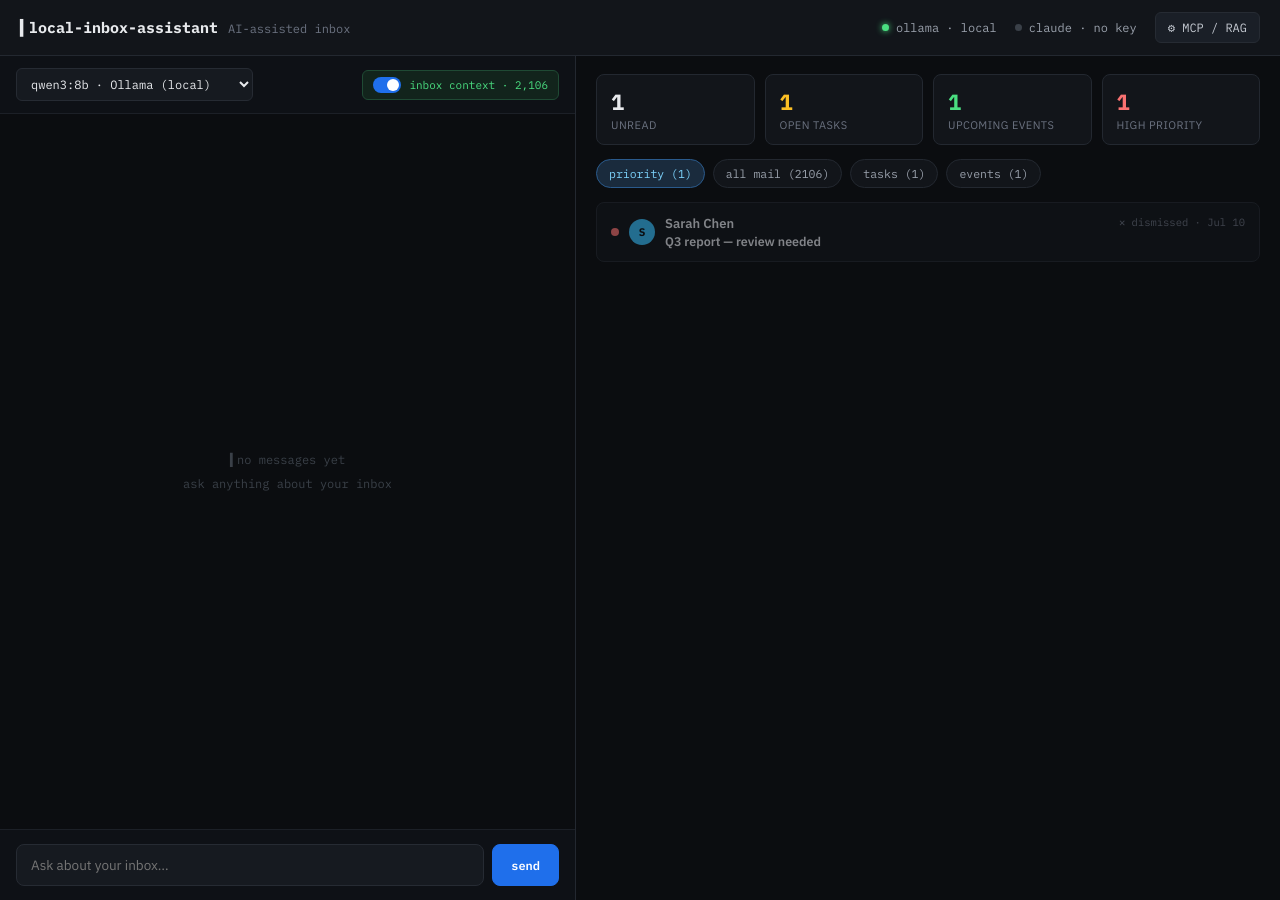
App › marks dismissed emails and offers restore
Click the text "Sarah Chen": (700, 224) x1=665 y1=215 x2=734 y2=232
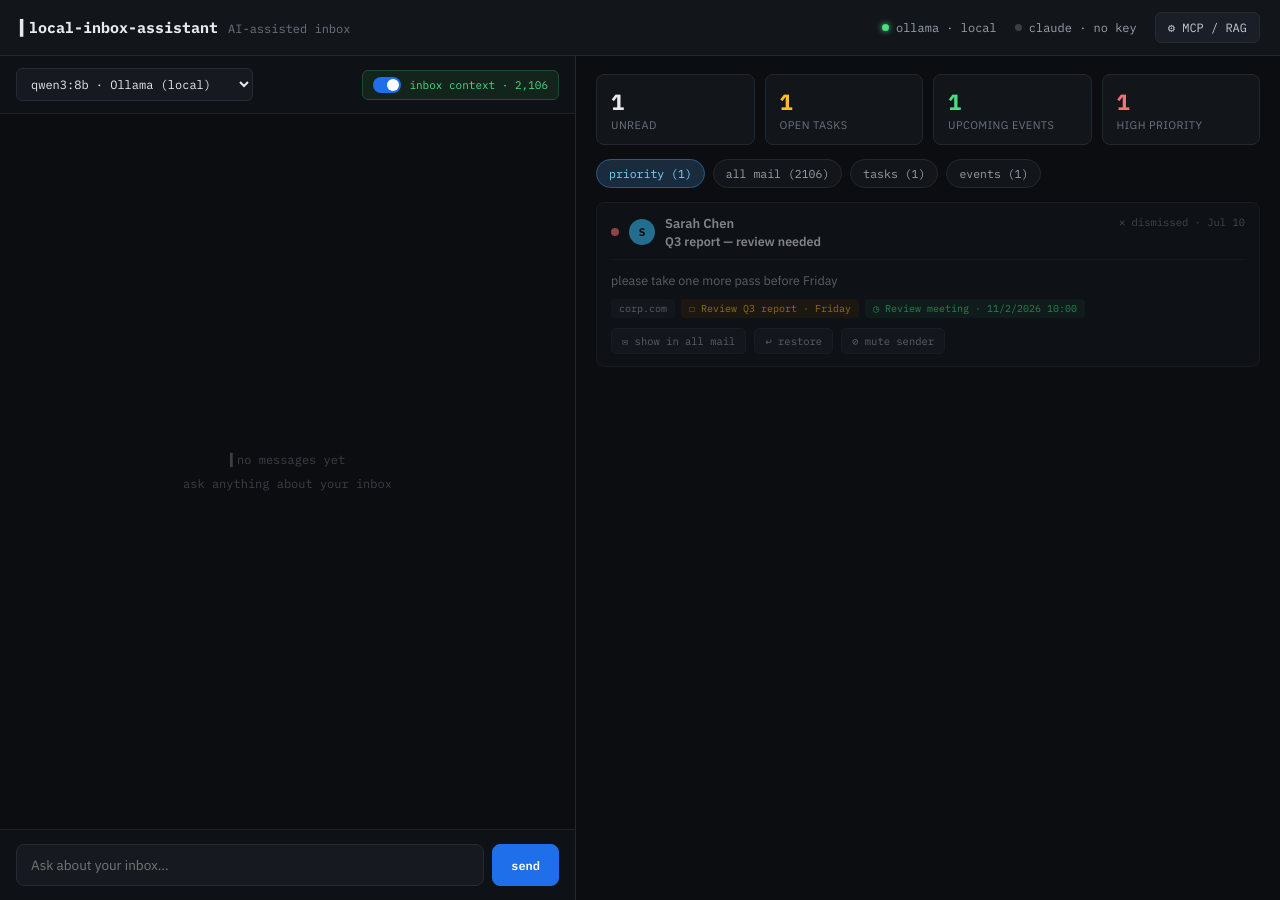
Expected: the text "✕ dismissed · Jul 10" is shown, x1=1119 y1=215 x2=1245 y2=232
Now the button "↩ restore" is shown, box x1=754 y1=328 x2=833 y2=354
